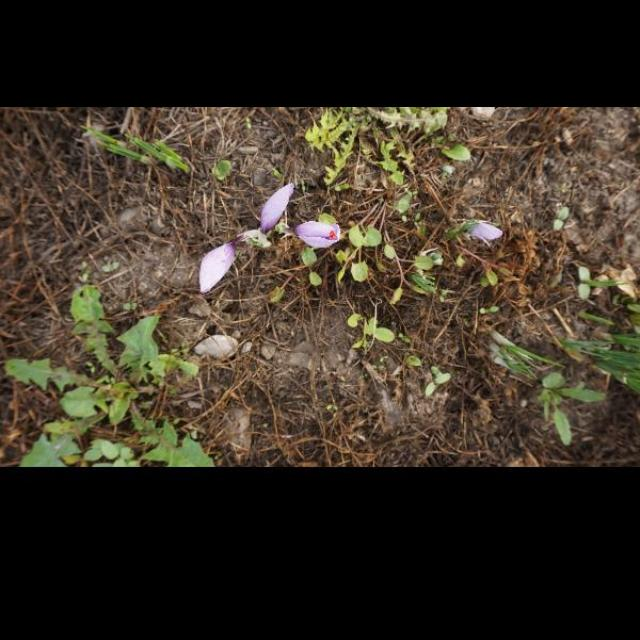flower: (256, 182, 296, 234), (199, 244, 237, 294), (297, 222, 343, 250)
